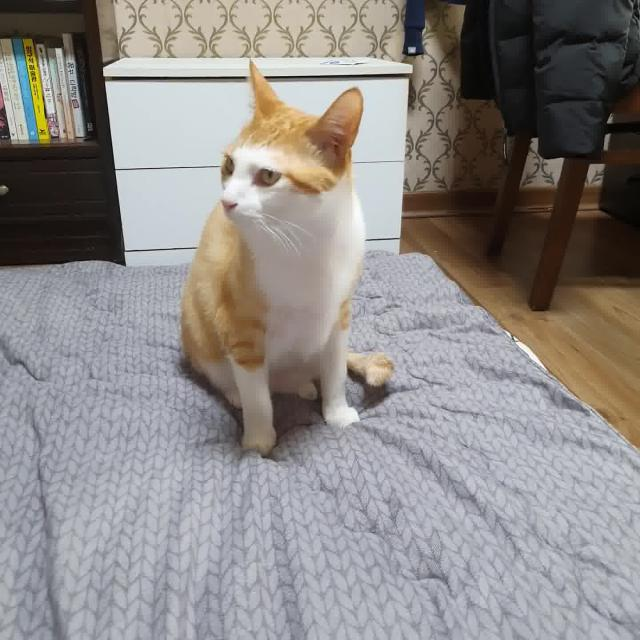cat: (159, 39, 402, 464)
